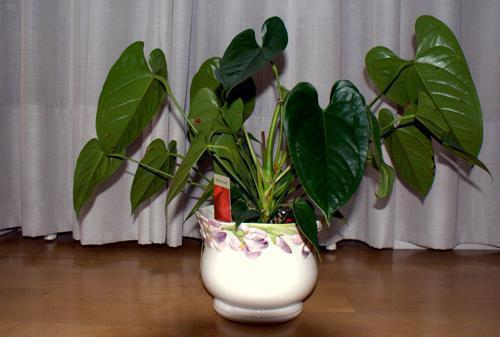Matera: (50, 39, 467, 324)
